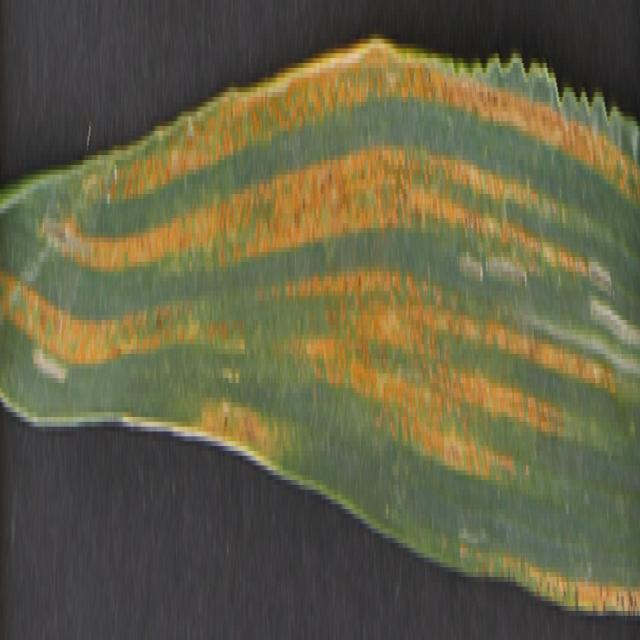leaf rust: (1, 54, 639, 602)
